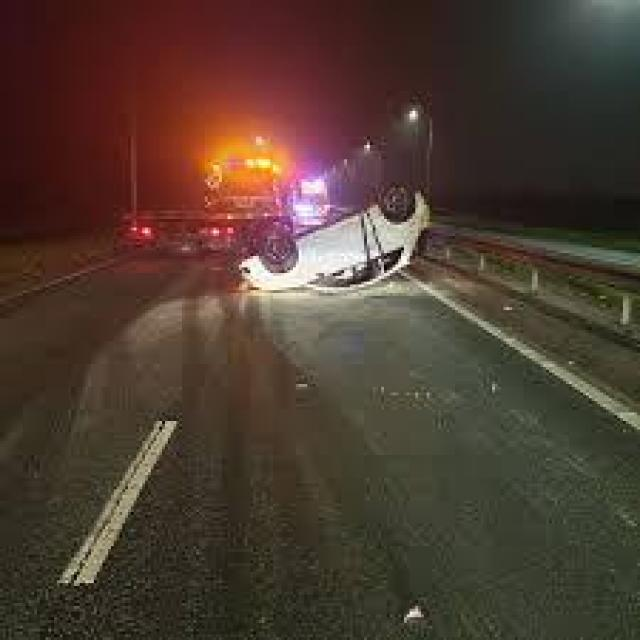accident: (234, 178, 433, 297)
